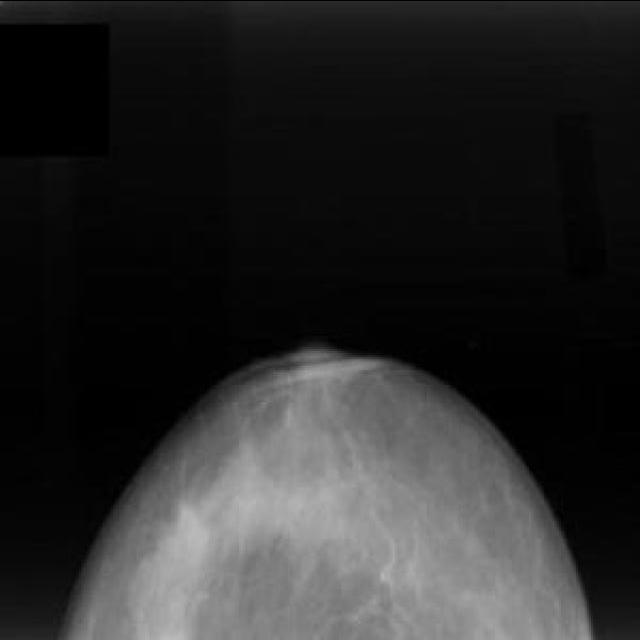tumor: (161, 442, 364, 580)
